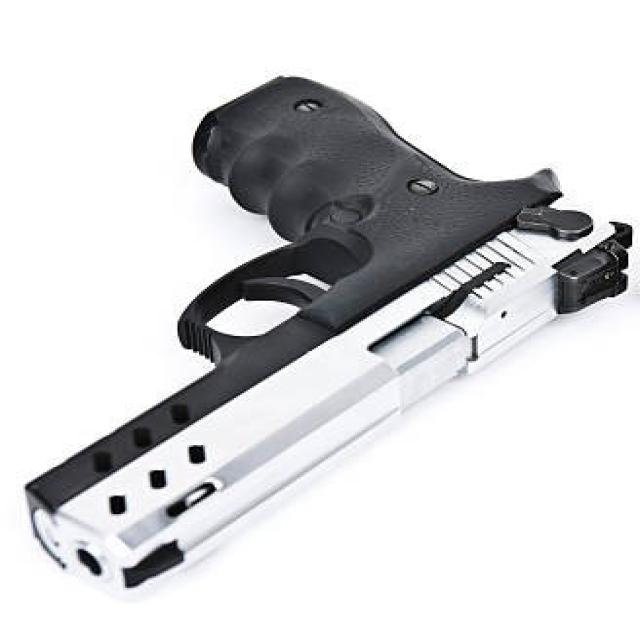pistol: (16, 71, 640, 607)
